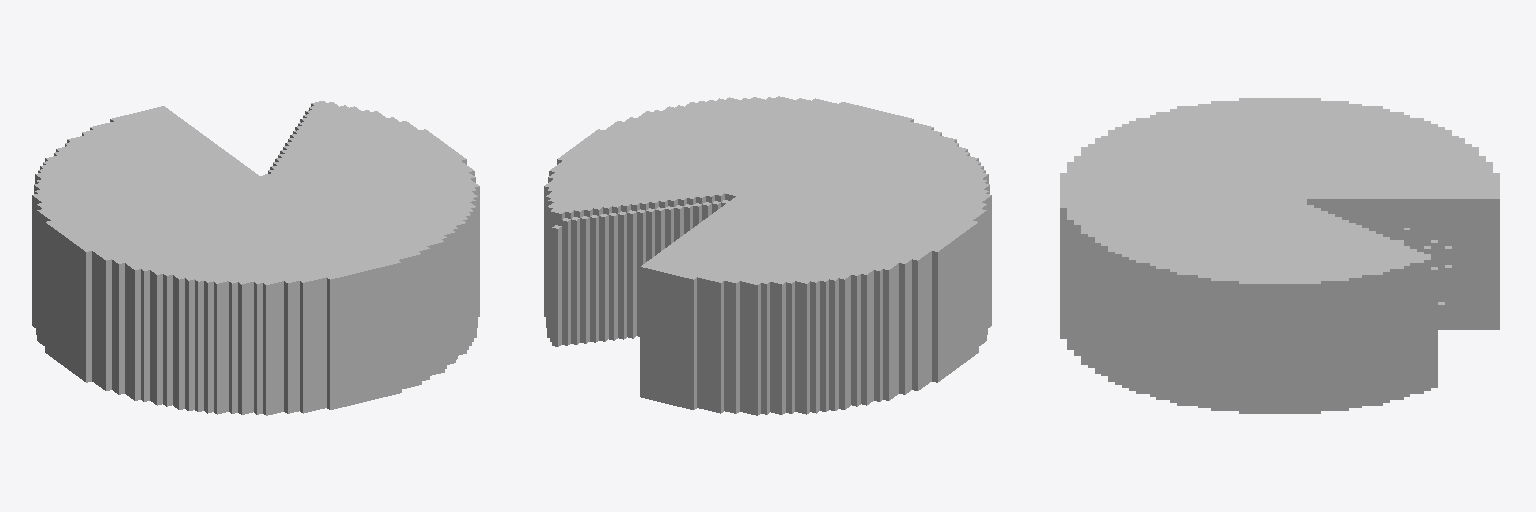
Rendered from Queso.obj.
The picture shows the model from 3 angles: view 1: azimuth 30°, elevation 25°; view 2: azimuth 150°, elevation 25°; view 3: azimuth 270°, elevation 25°; orthographic projection.
Visible parts, largest first — view 1: object 1; view 2: object 1; view 3: object 1.
Part boxes in pixels (left/top/right/bottom): object 1: left=32, top=101, right=479, bottom=415; object 1: left=544, top=96, right=991, bottom=415; object 1: left=1060, top=98, right=1499, bottom=413.
Bounding box in the file's own units: 6.4 × 2.1 × 6.4.